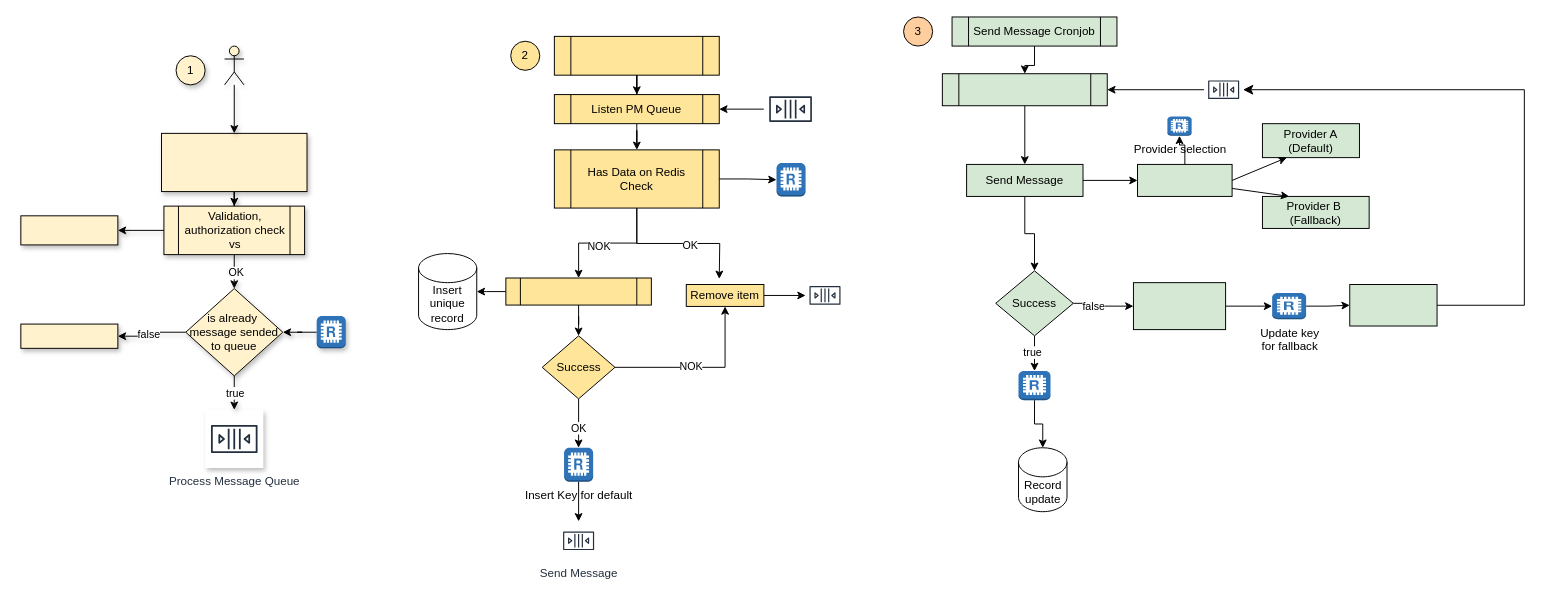
Some shapes in this 1551 by 598 pixel diagram are drawn without their labels. The centre of each missing label's shape, as x and y in pixels:
"400 Bad Request" goes at (70,231).
"409 Conflict" goes at (70,337).
"Add Cache data for fallback" goes at (1179,306).
"Database Insert" goes at (578,291).
"Insert Database Cronjob" goes at (636,55).
"Listen SM Queue" goes at (1024,89).
"POST /api/message/send" goes at (235,163).
"Remove Key" goes at (1034,385).
"Return for fallback process" goes at (1393,305).
"SM Strategy" goes at (1184,179).
